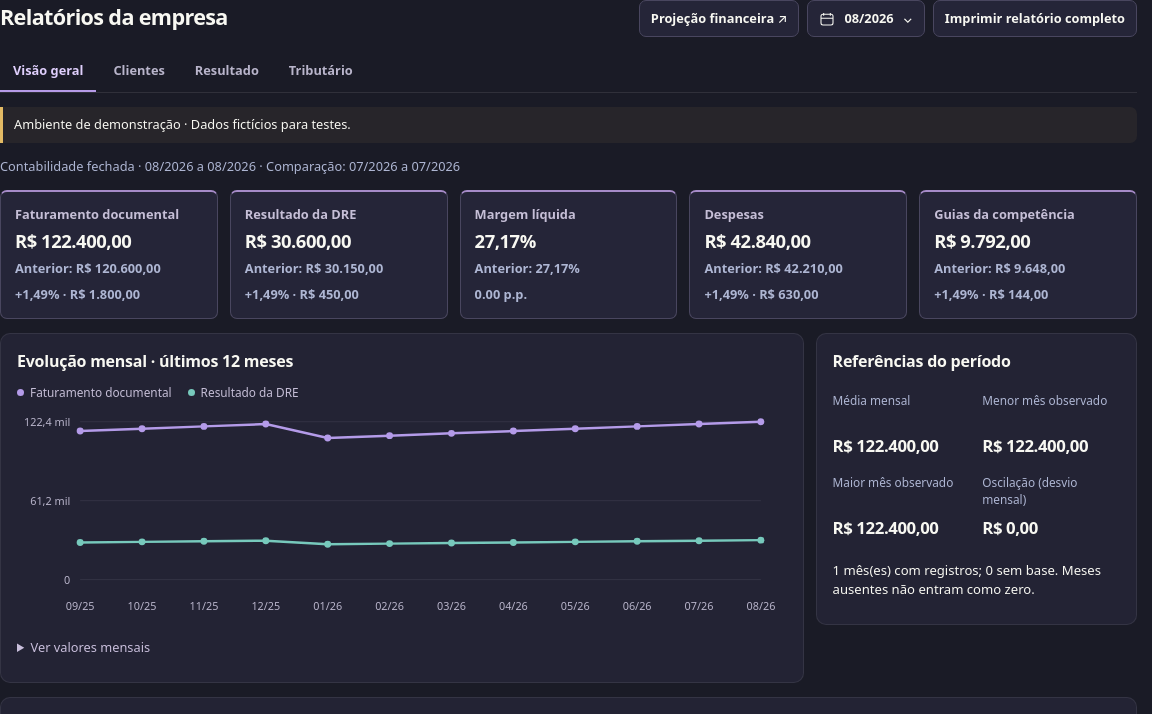
it: mostra demonstração, compara períodos e abre composição
Expected: the text "Ambiente de demonstração · Dados fictícios para testes." is shown, [0,107,1137,143]
Click the button named "Filtrar período" at (866, 19), box [807,0,925,37]
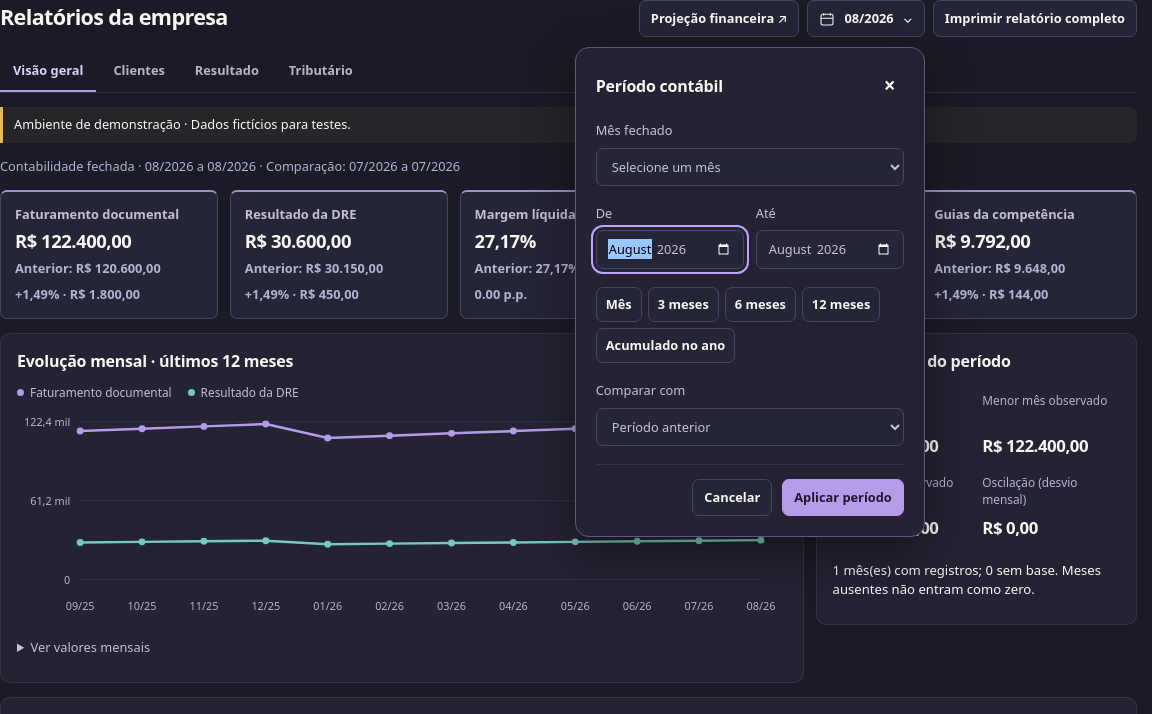
Click the button "Acumulado no ano" at (665, 346), box [596,328,735,363]
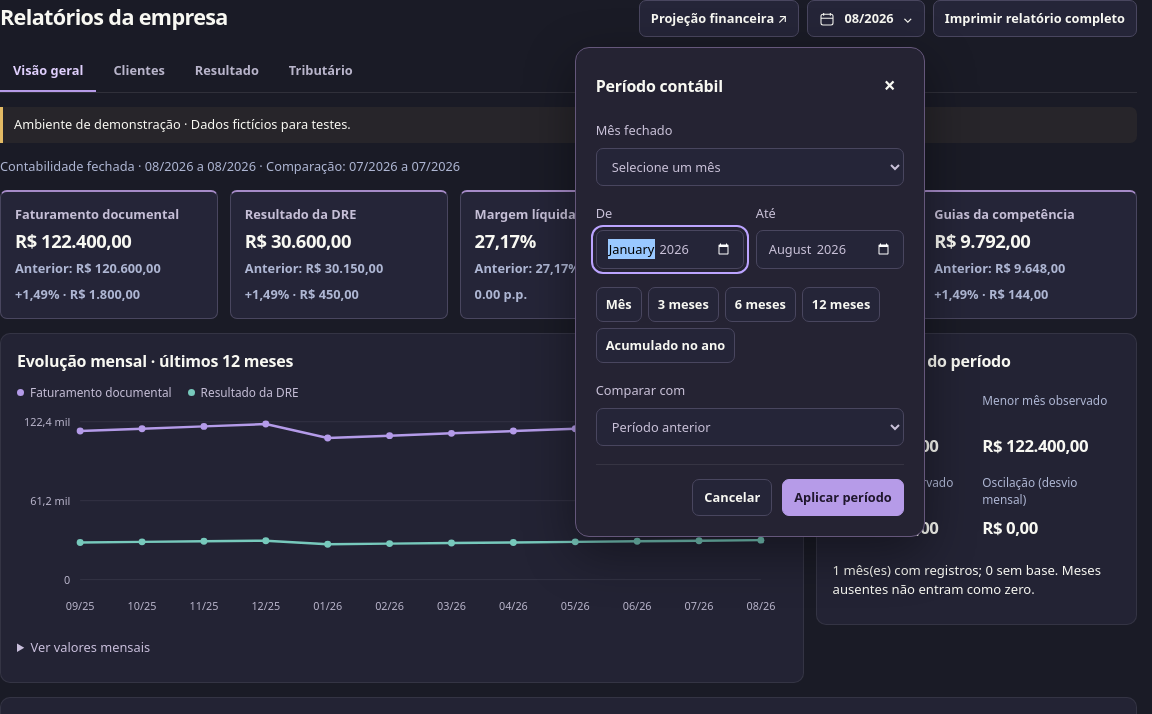
Click the button "Aplicar período" at (843, 497), box [782,478,904,516]
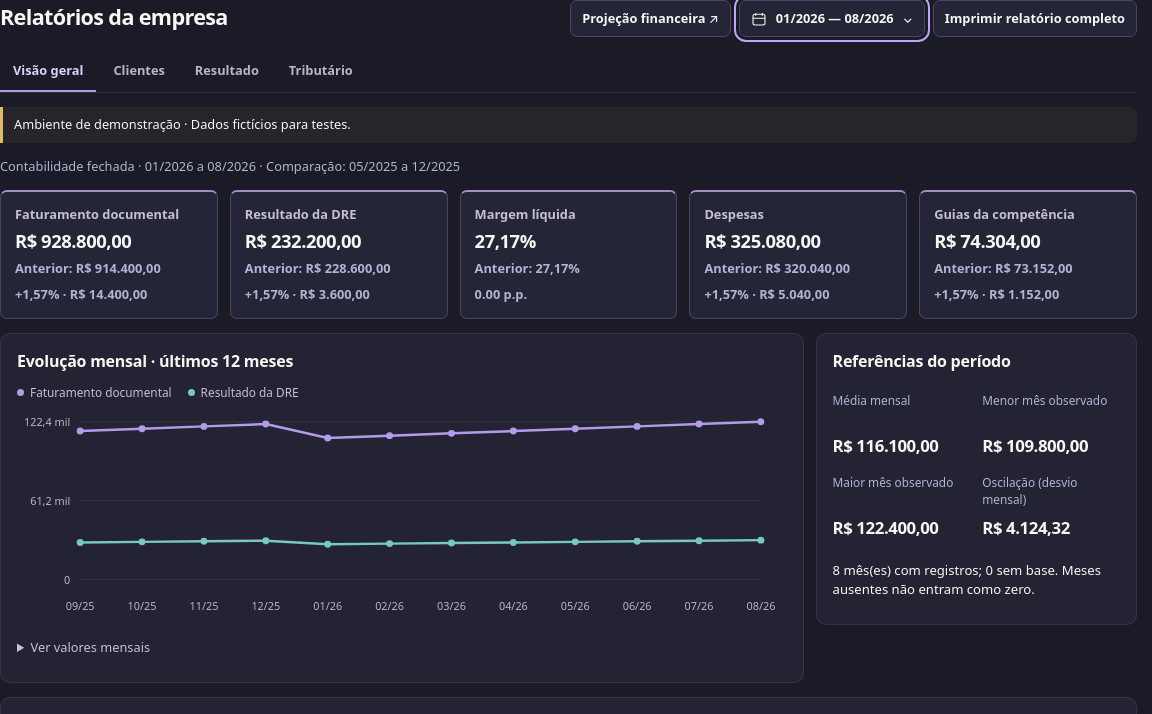
Click the button "Resultado" at (227, 72), box [182,51,272,92]
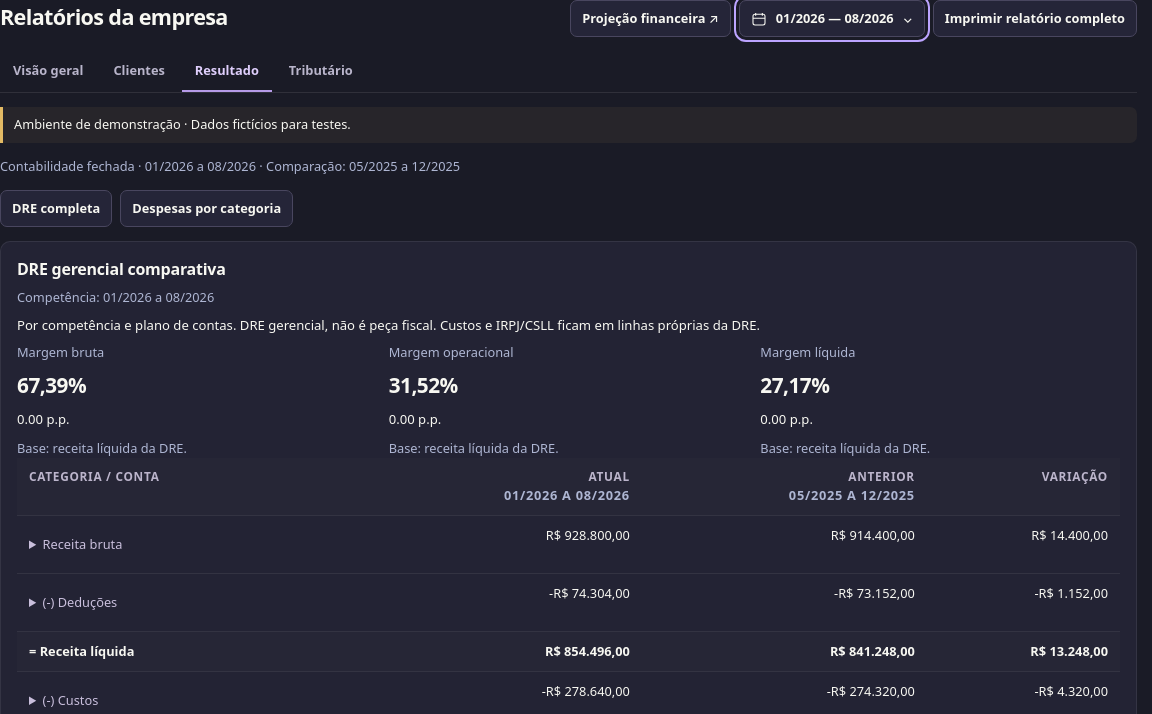
Expected: the heading "DRE gerencial comparativa" is shown, [17,258,226,280]
